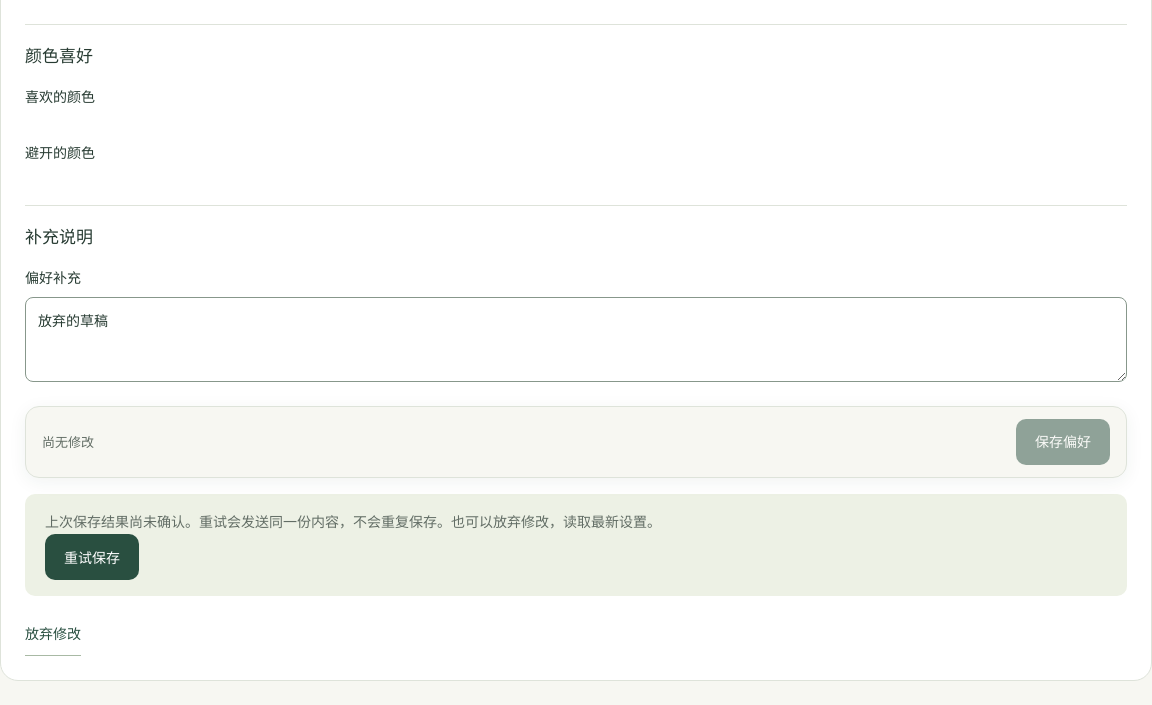
Test: explicitly discards a recovered save and loads the latest server preferences
The width and height of the screenshot is (1152, 705).
(page scrolled)
Expected: the text box labelled "偏好补充" holds "放弃的草稿", x1=25 y1=297 x2=1127 y2=382
Click the button "放弃修改" at coordinates (53, 634), box x1=25 y1=612 x2=81 y2=656
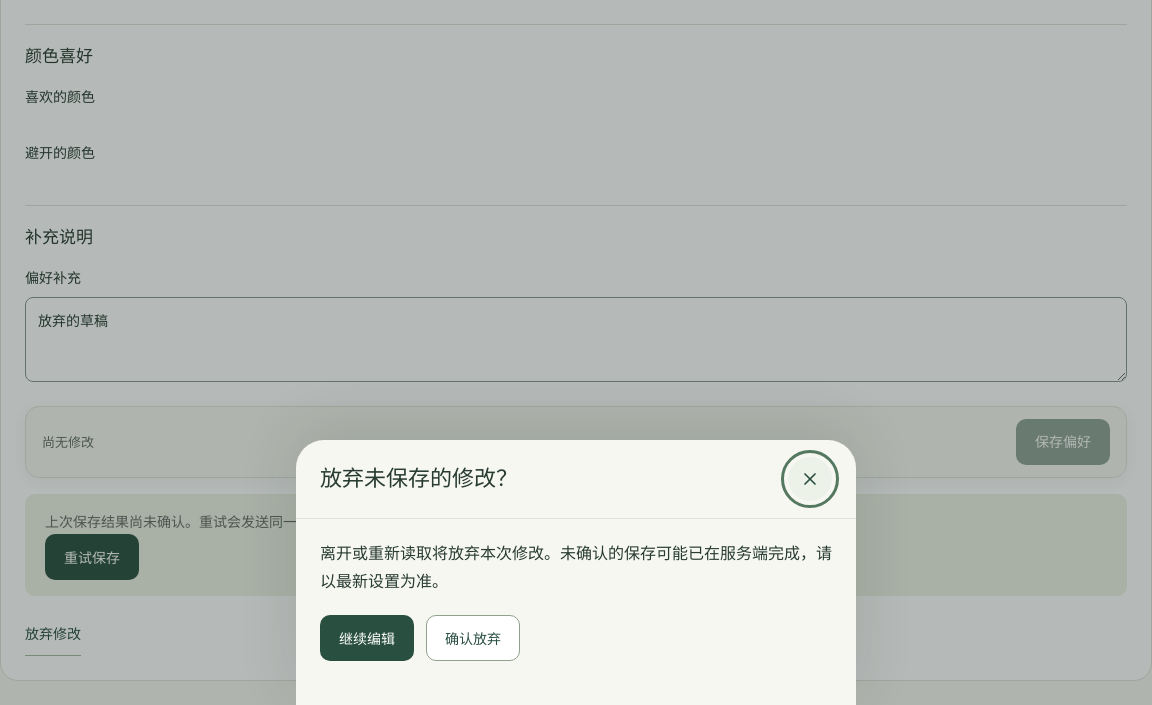
Click the button "确认放弃" at coordinates (473, 638), box x1=426 y1=615 x2=520 y2=661
(page scrolled)
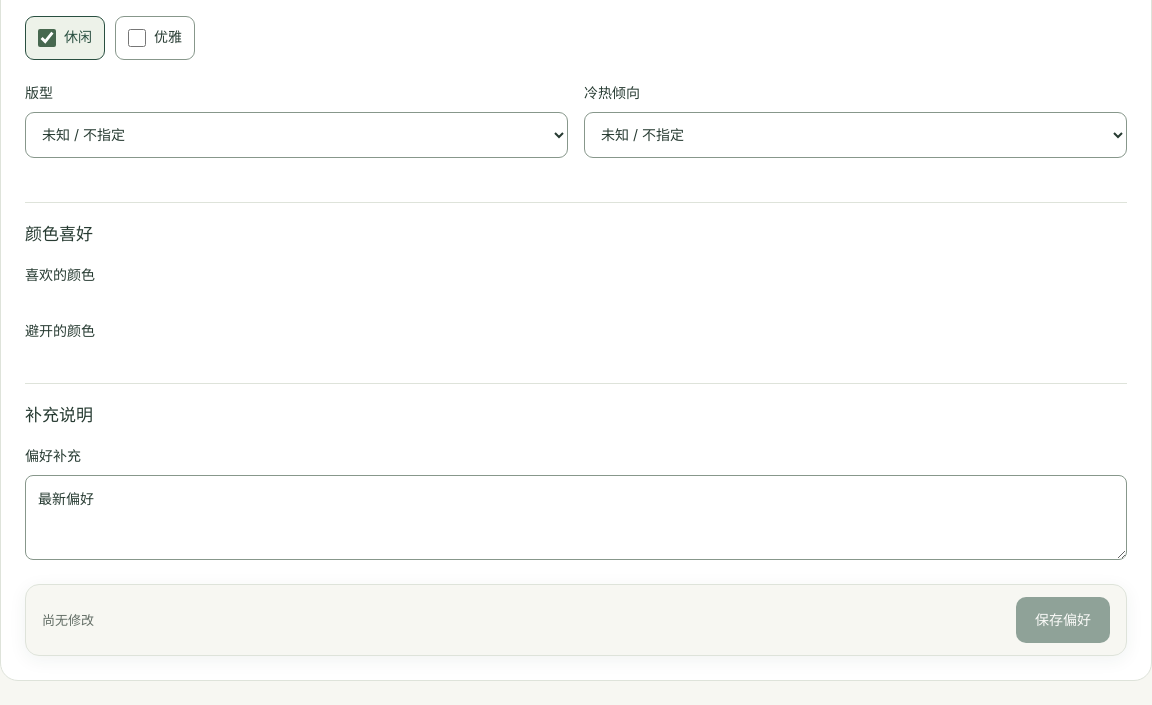
Now the text box labelled "偏好补充" holds "最新偏好", box x1=25 y1=475 x2=1127 y2=560
Now the button "重试保存" is gone
